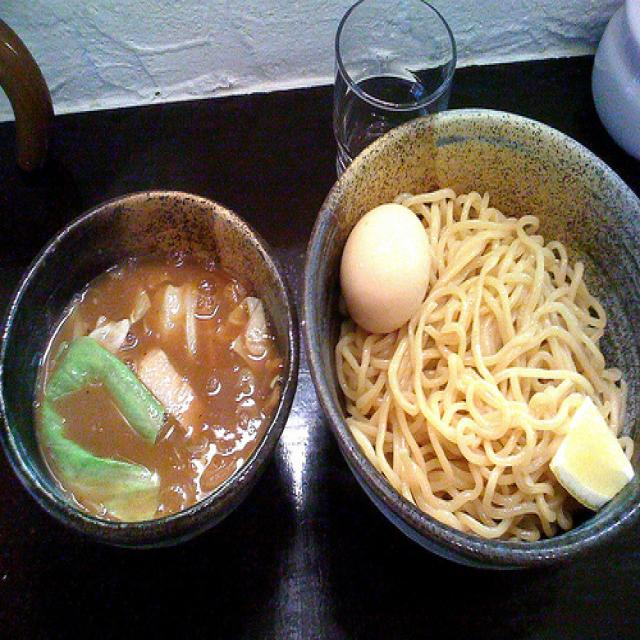面条主食: (8, 181, 632, 532)
